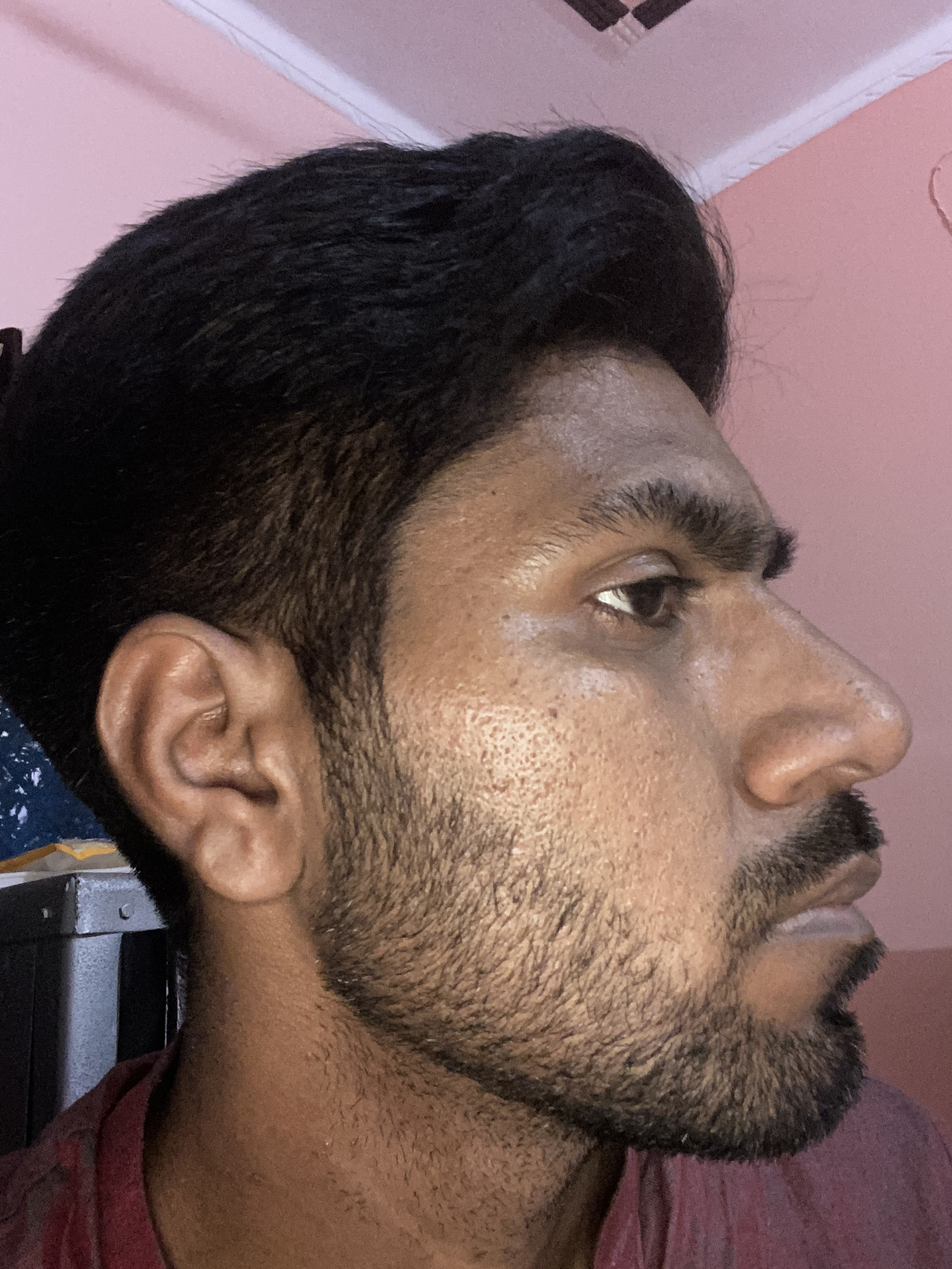closed_comedone: (622, 807, 660, 843)
